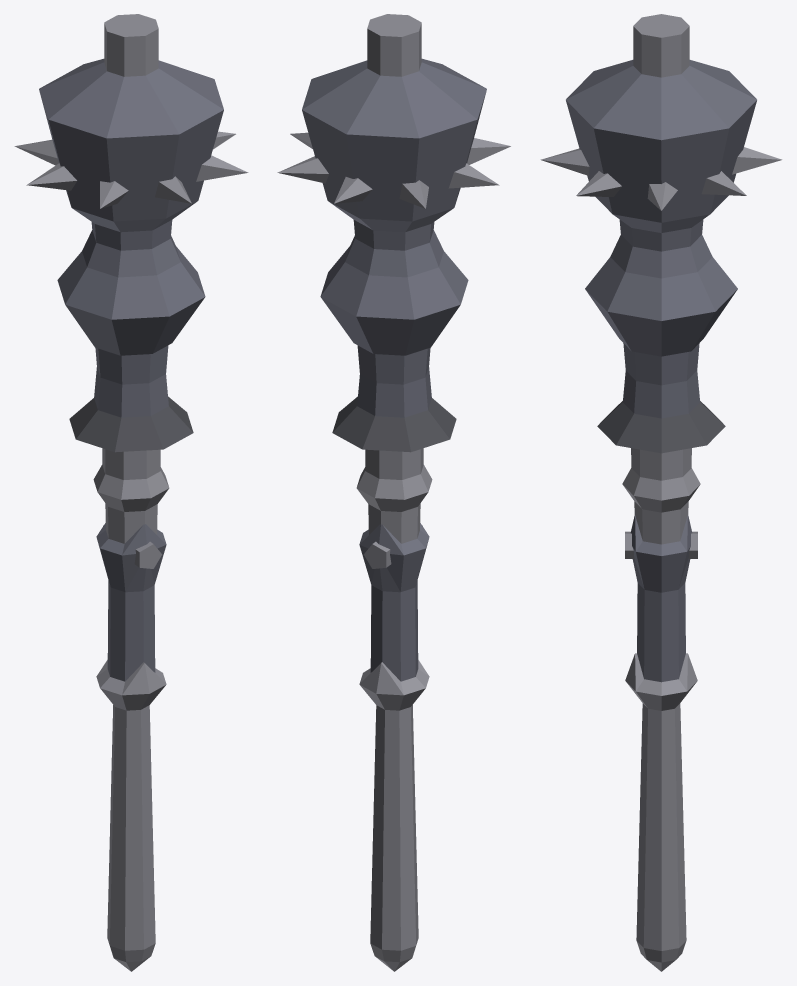
The model's file is hammer_hammer_2.glb.
The picture shows the model from 3 angles, left to right: view 1: azimuth 30°, elevation 25°; view 2: azimuth 150°, elevation 25°; view 3: azimuth 270°, elevation 25°; orthographic projection.
Visible parts, largest first — view 1: hammer_2; view 2: hammer_2; view 3: hammer_2.
Boxes of the visible parts, box(x1,y1,x2,y2) form: hammer_2: box(14, 14, 248, 971); hammer_2: box(277, 14, 510, 971); hammer_2: box(540, 14, 782, 971).
Bounding box in the file's own units: 18.07 × 77.76 × 18.07.
1 material, 1 textured.
